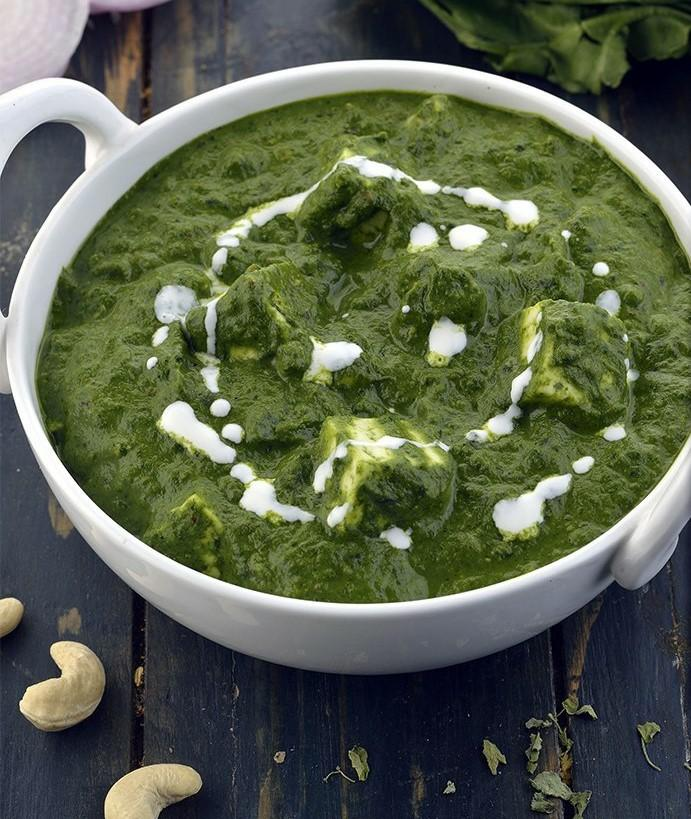PalakPaneer: (39, 86, 691, 600)
